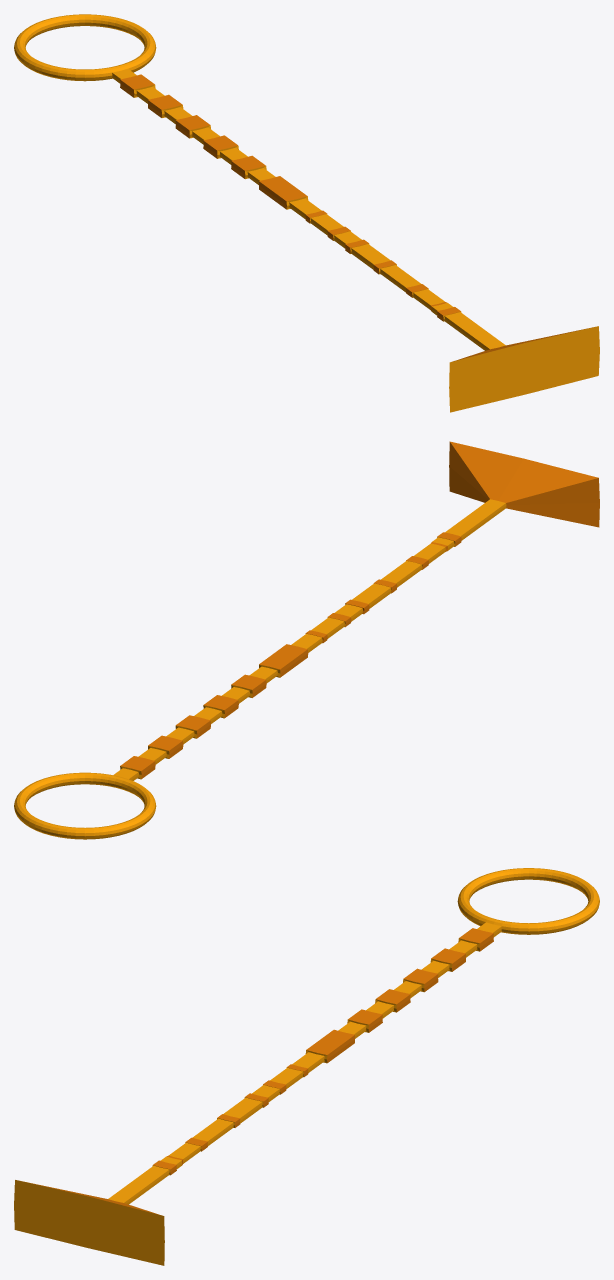
The model's file is rings(3).fbx.
3 renders of one model, top to bottom at view 1: azimuth 30°, elevation 25°; view 2: azimuth 150°, elevation 25°; view 3: azimuth 330°, elevation 25°, orthographic.
Visible parts, largest first — view 1: Torus.003; view 2: Torus.003; view 3: Torus.003.
Boxes of the visible parts, x1,y1,x2,y2 form: Torus.003: (14, 14, 599, 412); Torus.003: (14, 441, 599, 839); Torus.003: (14, 868, 599, 1265).
Size of the model in its own units: 267 by 86.21 by 1457.
